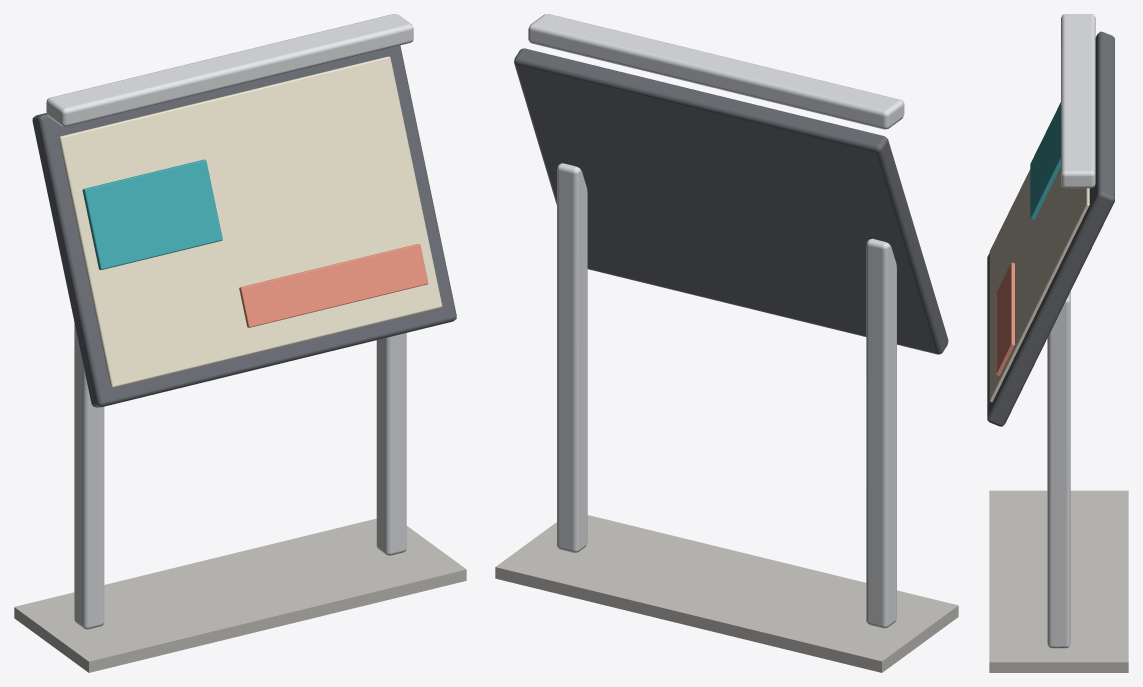
The model's file is public-aquarium-and-marine-centre-tank-interpretive-si-a078150f.glb.
3 views of the same model, side by side, from view 1: azimuth 30°, elevation 25°; view 2: azimuth 150°, elevation 25°; view 3: azimuth 270°, elevation 25° (orthographic). The views are drawn at different scales.
Visible parts, largest first — view 1: tank-interpretive-sign-teal; view 2: tank-interpretive-sign-teal; view 3: tank-interpretive-sign-teal.
Boxes of the visible parts, <box> form: tank-interpretive-sign-teal: <box>14,14,466,672</box>; tank-interpretive-sign-teal: <box>495,14,958,672</box>; tank-interpretive-sign-teal: <box>987,14,1128,672</box>.
Bounding box in the file's own units: 1.05 × 1.41 × 0.365.
